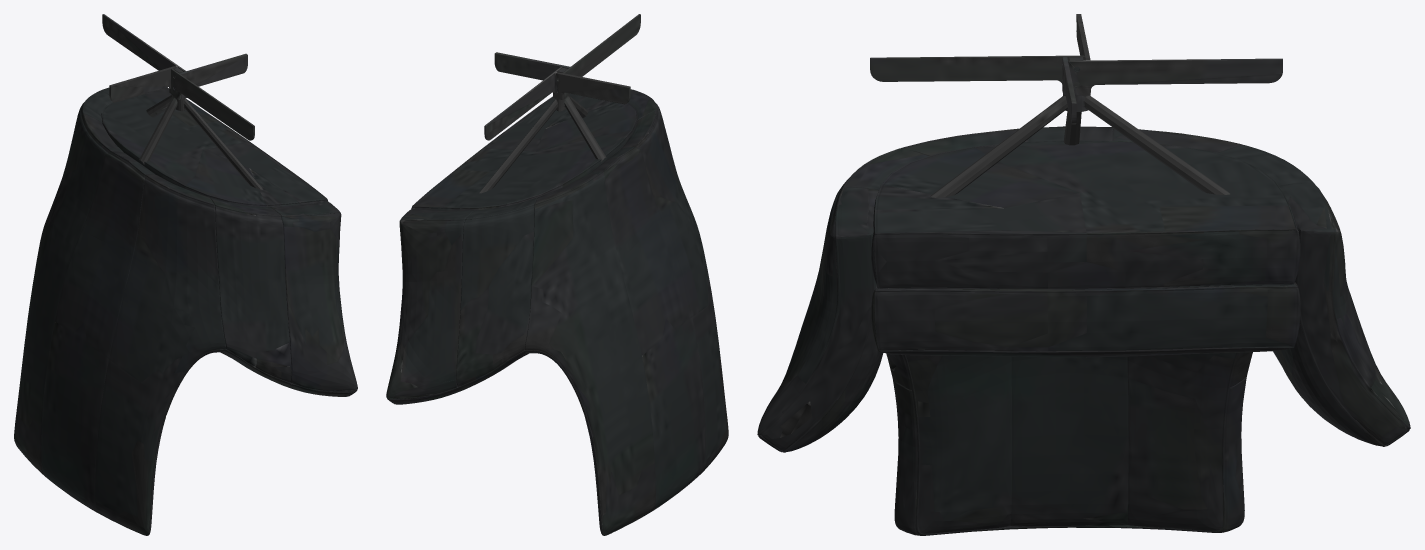
Rendered from chair_armchair_0.glb.
3 renders of one model, left to right at view 1: azimuth 30°, elevation 25°; view 2: azimuth 150°, elevation 25°; view 3: azimuth 270°, elevation 25°, orthographic. The views are drawn at different scales.
Visible parts, largest first — view 1: chair_armchair_0; view 2: chair_armchair_0; view 3: chair_armchair_0.
Boxes of the visible parts, box(x1,y1,x2,y2) form: chair_armchair_0: box(14, 14, 357, 535); chair_armchair_0: box(386, 14, 728, 535); chair_armchair_0: box(757, 14, 1410, 535).
Size of the model in its own units: 0.8611 by 1.68 by 1.84.
1 material, 1 textured.
